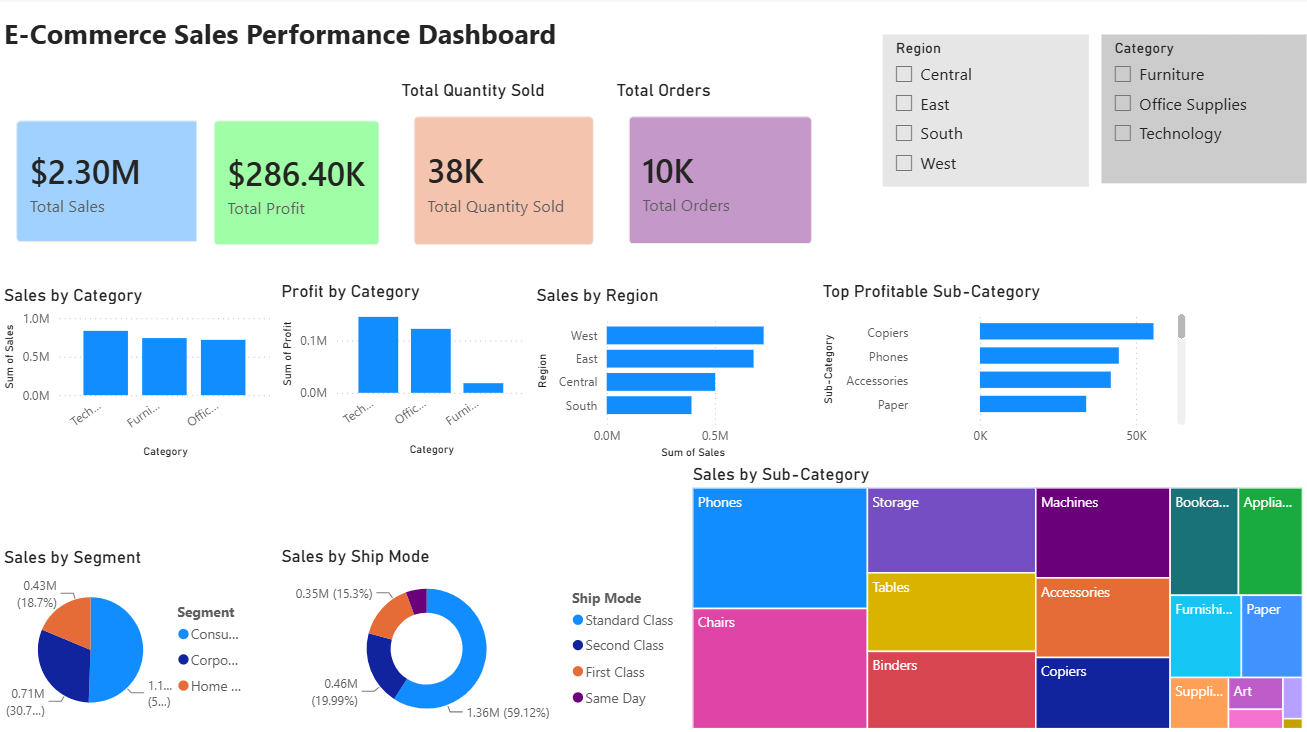

The dashboard page shown, as its layout file describes it:
{"tool":"powerbi","page":{"name":"Page 1","canvas":[1280,720],"ordinal":0},"visuals":[{"type":"cardVisual","fields":{"Data":["Sum(SampleSuperstore.Sales)"]},"box":[0,104.3,216.8,153.7],"z":0},{"type":"cardVisual","fields":{"Data":["Sum(SampleSuperstore.Profit)"]},"box":[193.5,104.3,196.2,156.4],"z":1000},{"type":"cardVisual","title":"Total Orders","fields":{"Data":["CountNonNull(SampleSuperstore.Sales)"]},"box":[569.5,81,214.1,178.4],"z":2000},{"type":"cardVisual","title":"Total Quantity Sold","fields":{"Data":["Sum(SampleSuperstore.Quantity)"]},"box":[373.2,81,209.9,179.8],"z":3000},{"type":"clusteredColumnChart","title":"Sales by Category","fields":{"Category":["SampleSuperstore.Category"],"Y":["Sum(SampleSuperstore.Sales)"]},"box":[0,281.3,271.7,174.3],"z":4000},{"type":"clusteredColumnChart","title":"Profit by Category","fields":{"Category":["SampleSuperstore.Category"],"Y":["Sum(SampleSuperstore.Profit)"]},"box":[271.7,277.2,249.7,175.6],"z":5000},{"type":"barChart","title":" Sales by Region","fields":{"Category":["SampleSuperstore.Region"],"Y":["Sum(SampleSuperstore.Sales)"]},"box":[521.4,281.3,262.1,175.6],"z":6000},{"type":"pieChart","title":"Sales by Segment","fields":{"Category":["SampleSuperstore.Segment"],"Y":["Sum(SampleSuperstore.Sales)"]},"box":[0,537.9,252.5,182.5],"z":7000},{"type":"slicer","fields":{"Values":["SampleSuperstore.Region"]},"box":[864.5,36.7,201.8,149.2],"z":8000},{"type":"slicer","fields":{"Values":["SampleSuperstore.Category"]},"box":[1078.5,36.7,201.8,145.5],"z":9000},{"type":"donutChart","title":" Sales by Ship Mode","fields":{"Category":["SampleSuperstore.Ship Mode"],"Y":["Sum(SampleSuperstore.Sales)"]},"box":[271.7,536.5,402.1,182.5],"z":10000},{"type":"barChart","title":"Top Profitable Sub-Category","fields":{"Category":["SampleSuperstore.Sub-Category"],"Y":["Sum(SampleSuperstore.Profit)"]},"box":[801.4,277.2,365,170.2],"z":11000},{"type":"treemap","title":" Sales by Sub-Category","fields":{"Values":["Sum(SampleSuperstore.Sales)"],"Group":["SampleSuperstore.Sub-Category"]},"box":[673.8,455.6,606.5,264.8],"z":12000},{"type":"textbox","box":[0,12.3,583.2,64.5],"z":12001}]}

Visuals, with their boxes in screenshot pixels (x1, y1, x2, y2), scaled from the page's 1280x720 canvas onto the 1307x732 screenshot:
cardVisual - Sum(SampleSuperstore.Sales): [0,106,221,262]
cardVisual - Sum(SampleSuperstore.Profit): [198,106,398,265]
"Total Orders" cardVisual: [582,82,800,264]
"Total Quantity Sold" cardVisual: [381,82,595,265]
"Sales by Category" clusteredColumnChart: [0,286,277,463]
"Profit by Category" clusteredColumnChart: [277,282,532,460]
" Sales by Region" barChart: [532,286,800,465]
"Sales by Segment" pieChart: [0,547,258,731]
slicer - SampleSuperstore.Region: [883,37,1089,189]
slicer - SampleSuperstore.Category: [1101,37,1306,185]
" Sales by Ship Mode" donutChart: [277,545,688,731]
"Top Profitable Sub-Category" barChart: [818,282,1191,455]
" Sales by Sub-Category" treemap: [688,463,1306,731]
textbox: [0,13,596,78]
